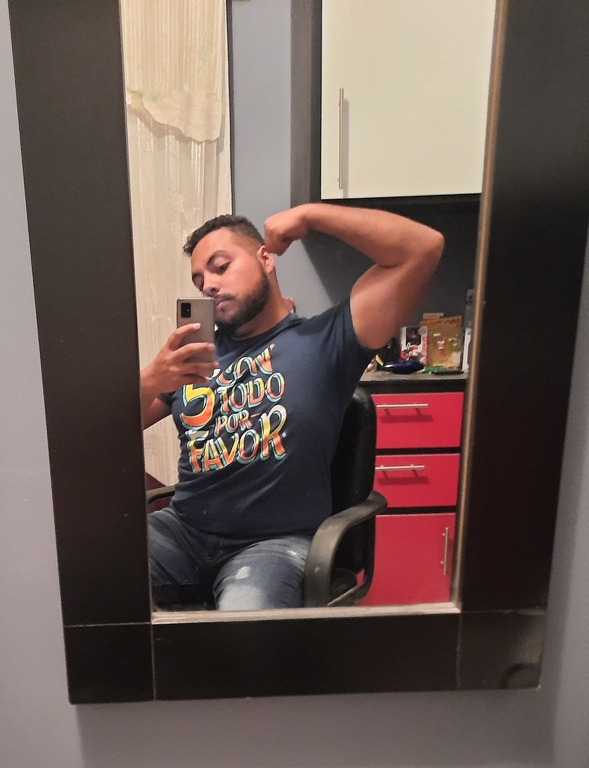Yoshi: (164, 197, 288, 352)
